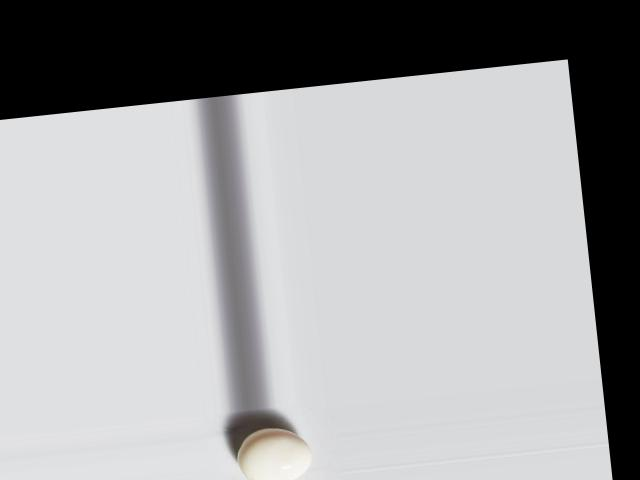egg: (233, 423, 313, 480)
